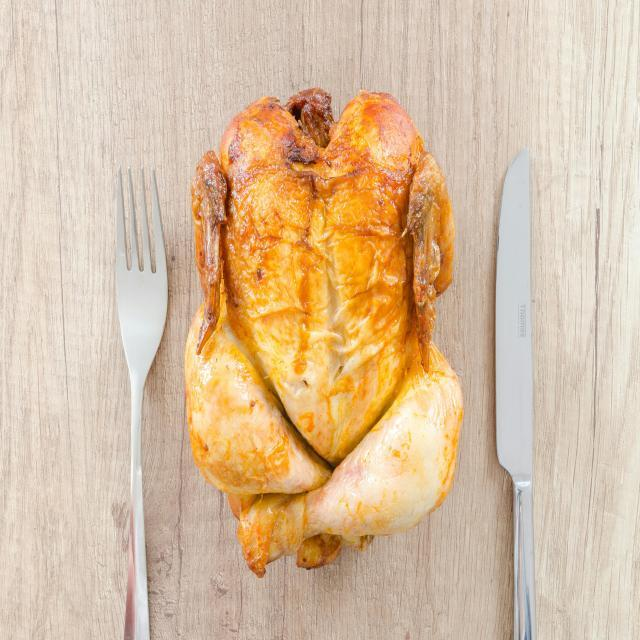knife: (497, 146, 536, 640)
